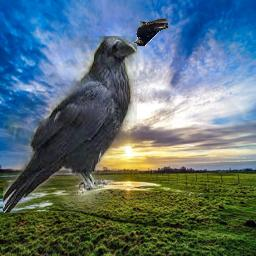Crow: (3, 37, 137, 214)
Swallow: (134, 18, 169, 46)
